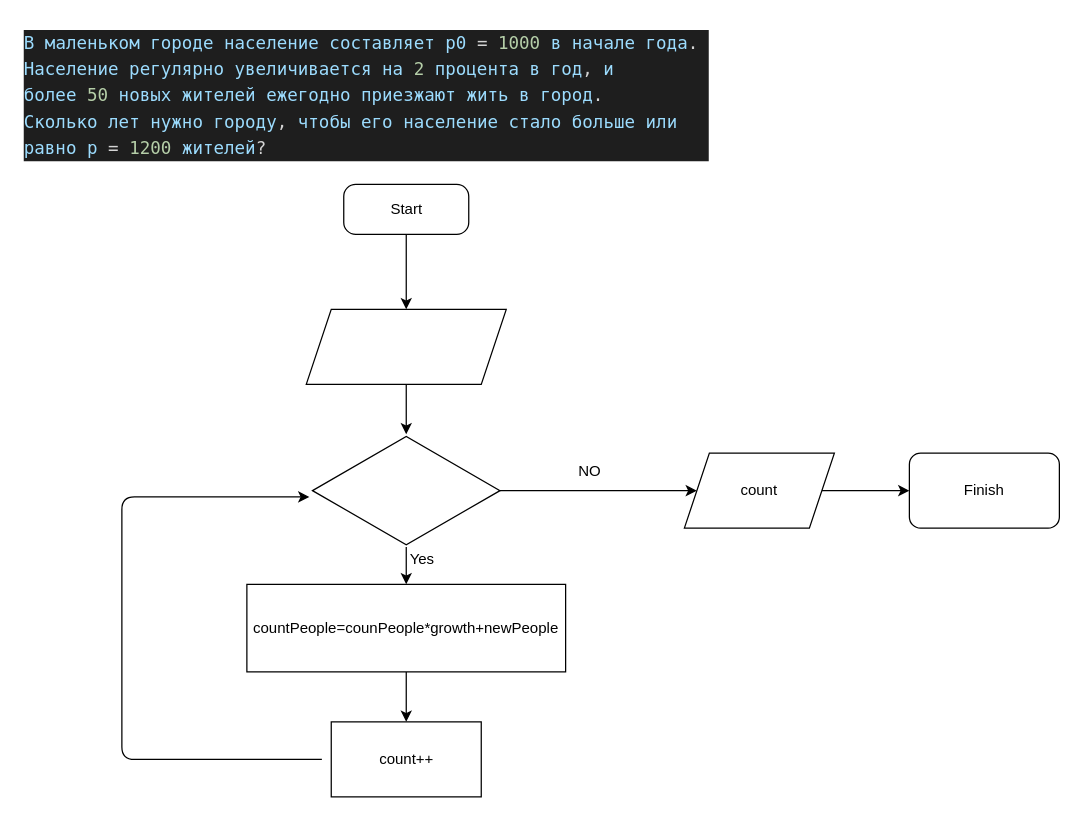
The diagram is 1081 pixels wide and 819 high, and some of its shapes have lost their labels. Here are the shapes that lost their labels. From the top down, the box of each, then its label:
(305, 308, 506, 384): int countPeople=1000 double growth=1,02 int newPeople=50 int count=0
(311, 433, 500, 547): countPeople<1200?
